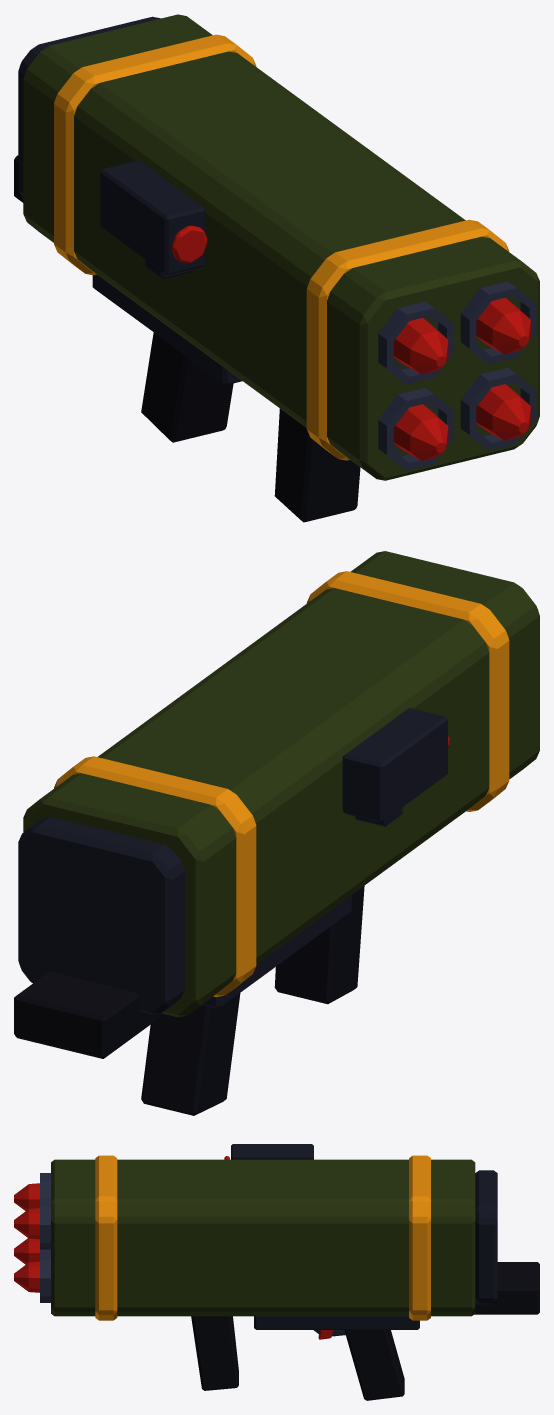
File: myw_quadrocketlauncher.obj
3 renders of one model, top to bottom at view 1: azimuth 30°, elevation 25°; view 2: azimuth 150°, elevation 25°; view 3: azimuth 270°, elevation 25°, orthographic. The views are drawn at different scales.
Visible parts, largest first — view 1: Pod, Rockets, Grips, Sight; view 2: Pod, Grips, Sight; view 3: Pod, Grips, Rockets, Sight.
Boxes of the visible parts, x1,y1,x2,y2 form: Pod: [18, 14, 539, 480]; Rockets: [378, 281, 536, 470]; Grips: [14, 155, 360, 522]; Sight: [100, 160, 207, 278]; Pod: [18, 551, 539, 1017]; Grips: [14, 886, 364, 1115]; Sight: [342, 708, 449, 826]; Pod: [51, 1155, 497, 1320]; Grips: [191, 1262, 539, 1400]; Rockets: [14, 1173, 50, 1302]; Sight: [224, 1144, 313, 1159].
Size of the model in its own units: 0.92 by 1.3 by 2.85.
